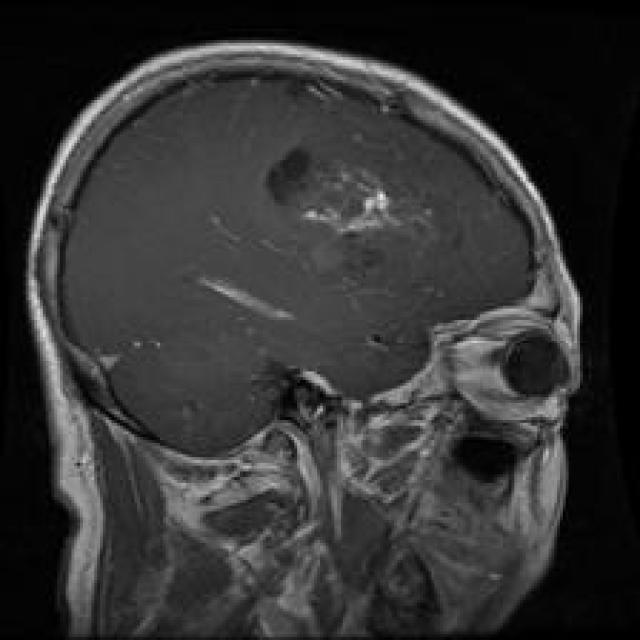glioma_tumor: (225, 135, 489, 271)
